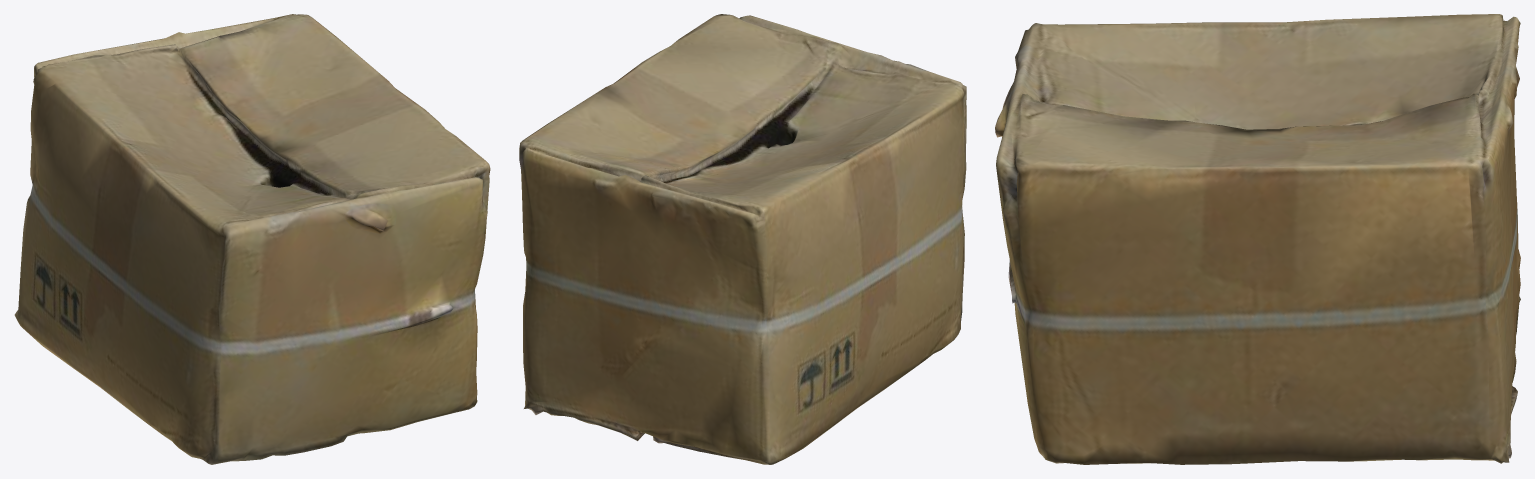
Rendered from cardboard_box_01.glb.
3 views of the same model, side by side, from view 1: azimuth 30°, elevation 25°; view 2: azimuth 150°, elevation 25°; view 3: azimuth 270°, elevation 25° (orthographic). The views are drawn at different scales.
Parts seen in each view (by area): view 1: cardboard_box_01; view 2: cardboard_box_01; view 3: cardboard_box_01.
Boxes of the visible parts, left/top/right/bottom form: cardboard_box_01: left=14, top=14, right=490, bottom=464; cardboard_box_01: left=519, top=14, right=966, bottom=464; cardboard_box_01: left=995, top=14, right=1520, bottom=464.
Size of the model in its own units: 0.3867 by 0.3418 by 0.5159.
1 material, 1 textured.
